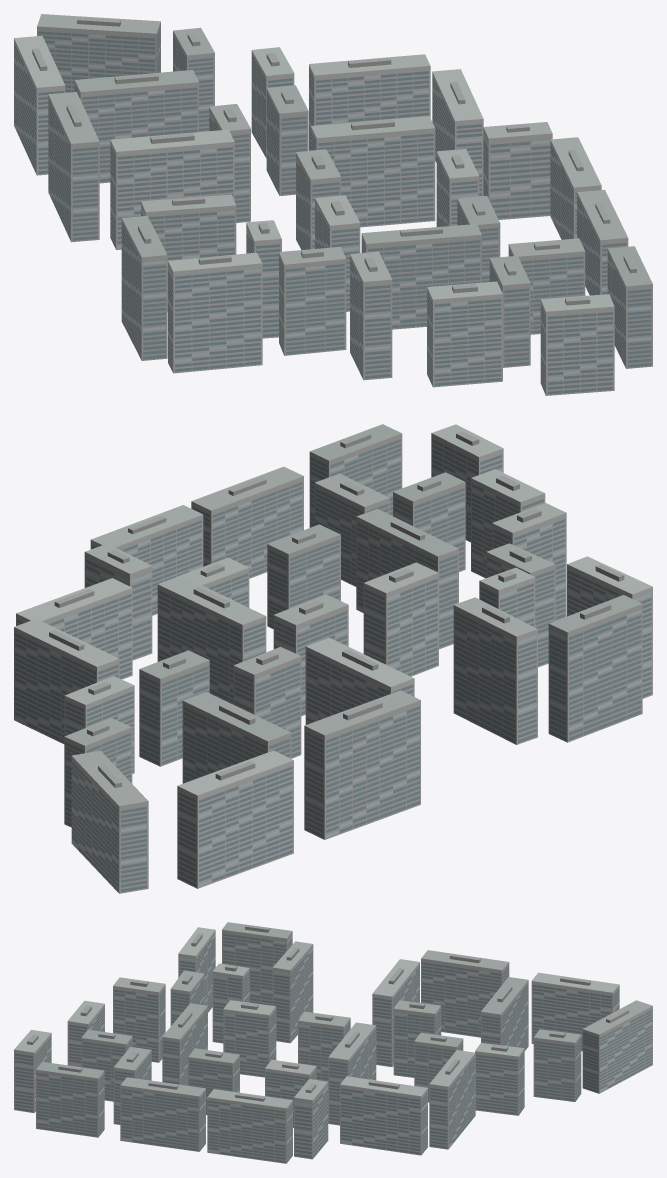
The model's file is apt-a13820006.glb.
3 views of the same model, one above another, from view 1: azimuth 30°, elevation 25°; view 2: azimuth 150°, elevation 25°; view 3: azimuth 270°, elevation 25° (orthographic). The views are drawn at different scales.
Parts seen in each view (by area): view 1: apt-a13820006; view 2: apt-a13820006; view 3: apt-a13820006.
Boxes of the visible parts, x1,y1,x2,y2 form: apt-a13820006: (14, 14, 652, 395); apt-a13820006: (14, 424, 652, 893); apt-a13820006: (14, 922, 652, 1163).
Size of the model in its own units: 278 by 60 by 448.
